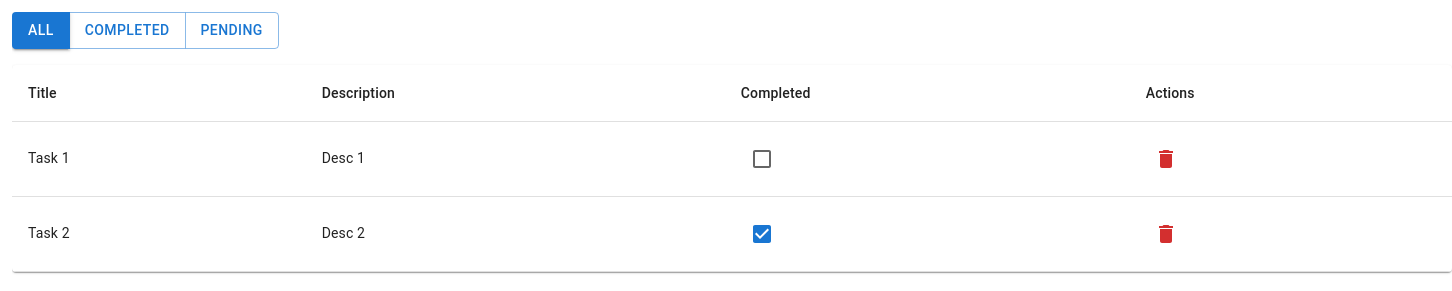
it: TaskTable Component › filters tasks correctly
The image size is (1452, 291).
Click Completed filter
Click the button "Completed": (127, 30) [69,12,186,48]
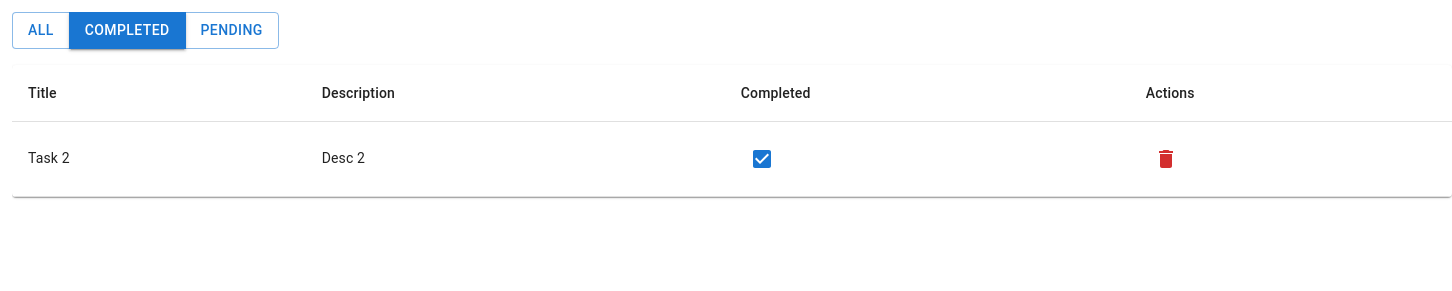
Expected: the text "Task 2" is shown, [12,121,306,196]
Expected: the text "Task 1" is gone
Click Pending filter
Click the button "Pending": (232, 30) [184,12,279,48]
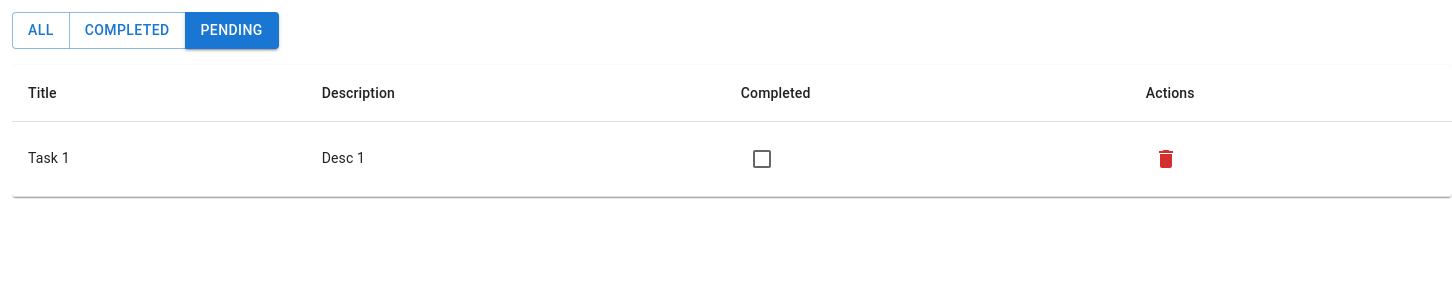
Expected: the text "Task 1" is shown, [12,121,306,196]
Expected: the text "Task 2" is gone
Click All filter
Click the button "All": (41, 30) [12,12,70,48]
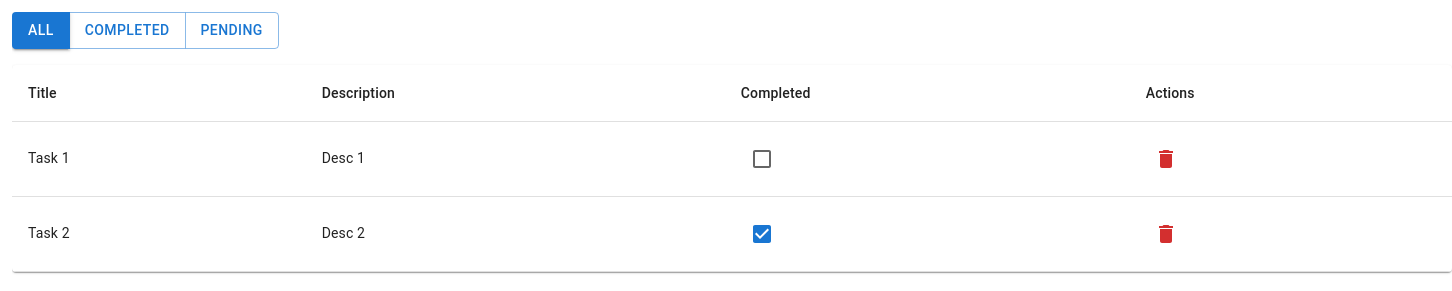
Expected: the text "Task 1" is shown, [12,121,306,196]
Expected: the text "Task 2" is shown, [12,196,306,271]
